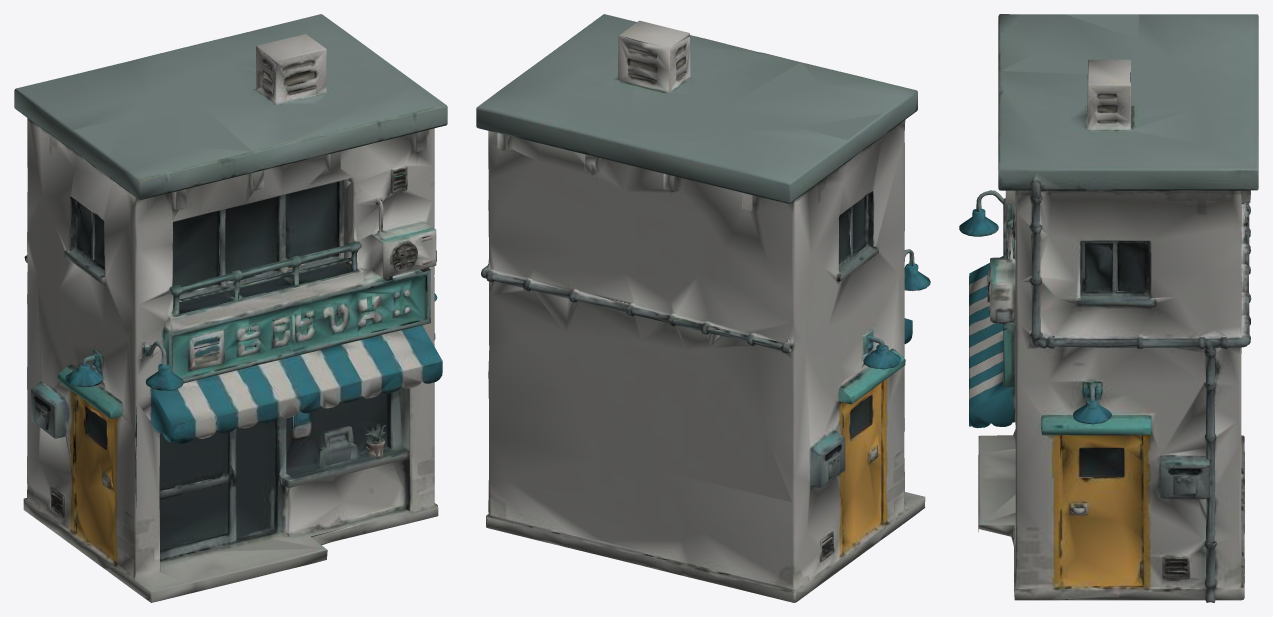
The model's file is building3.glb.
3 views of the same model, side by side, from view 1: azimuth 30°, elevation 25°; view 2: azimuth 150°, elevation 25°; view 3: azimuth 270°, elevation 25° (orthographic). The views are drawn at different scales.
Visible parts, largest first — view 1: lo; view 2: lo; view 3: lo.
Part boxes in pixels (x1,y1,x2,y2): lo: (14, 14, 447, 602); lo: (476, 14, 930, 602); lo: (959, 14, 1258, 602).
Bounding box in the file's own units: 0.8329 × 0.9999 × 0.5685.
1 material, 1 textured.
